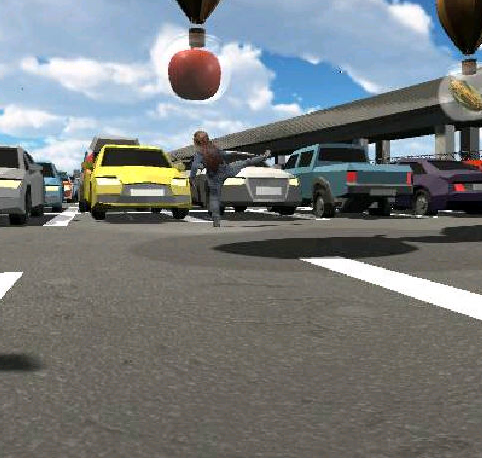turn_right: (189, 128, 274, 229)
